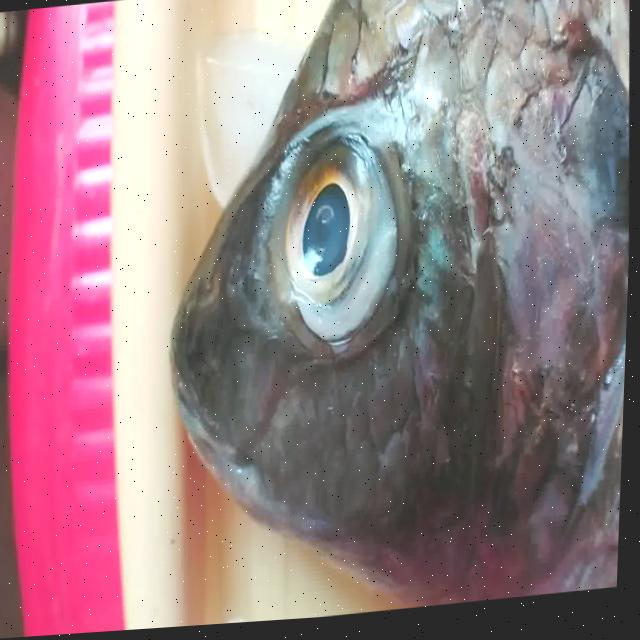Fresh: (252, 82, 416, 369)
